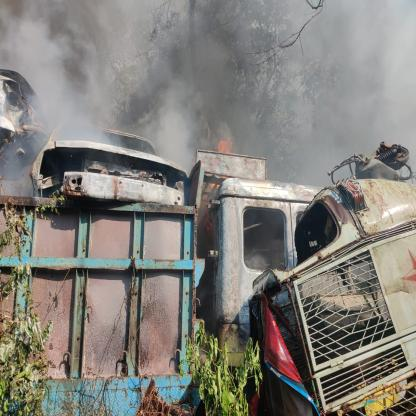Smoke: (0, 0, 416, 205)
